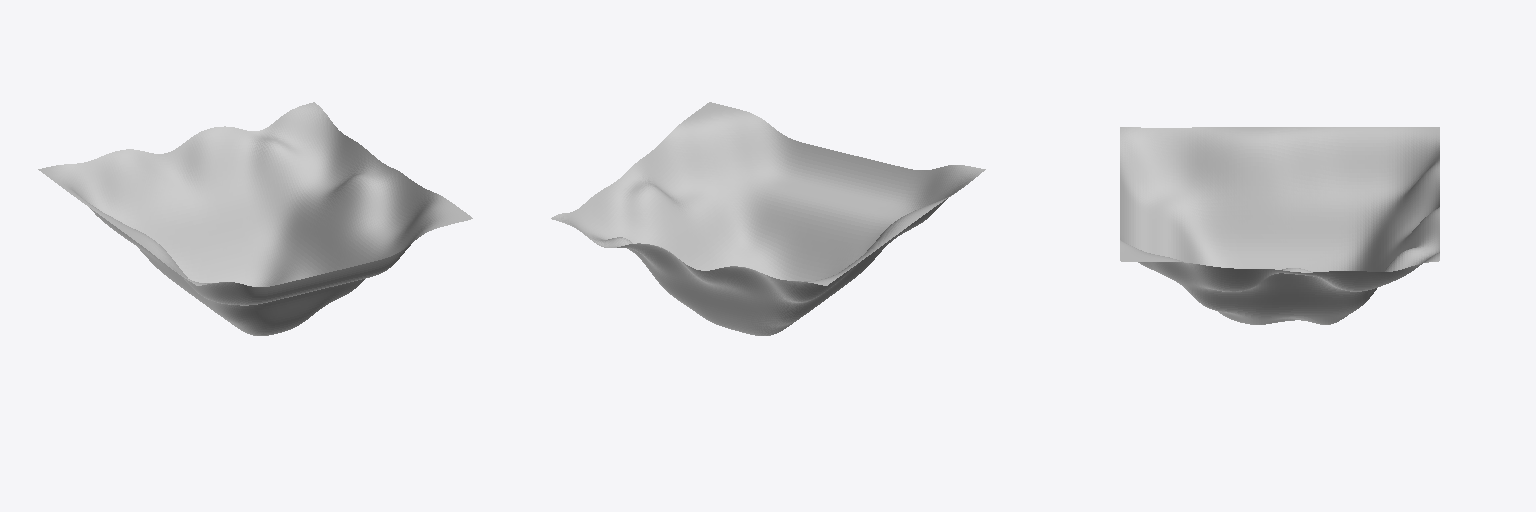
Rendered from map04.obj.
The picture shows the model from 3 angles: view 1: azimuth 30°, elevation 25°; view 2: azimuth 150°, elevation 25°; view 3: azimuth 270°, elevation 25°; orthographic projection.
Visible parts, largest first — view 1: Cube; view 2: Cube; view 3: Cube.
Boxes of the visible parts, box(x1,y1,x2,y2) form: Cube: box(38, 102, 472, 335); Cube: box(551, 102, 985, 335); Cube: box(1120, 127, 1439, 324).
Size of the model in its own units: 1.87 by 0.7993 by 1.87.